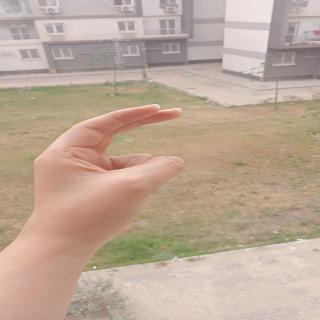ZAY: (15, 103, 228, 224)
